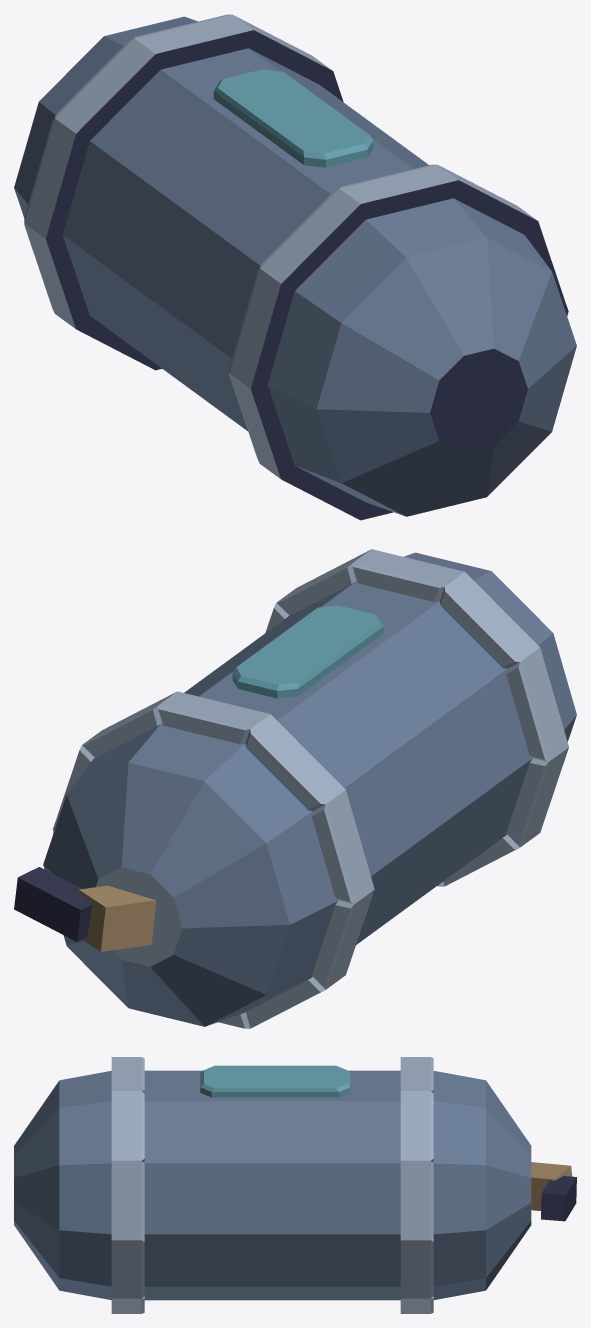
File: spent_fuel_tank.glb
3 views of the same model, one above another, from view 1: azimuth 30°, elevation 25°; view 2: azimuth 150°, elevation 25°; view 3: azimuth 270°, elevation 25° (orthographic). The views are drawn at different scales.
Visible parts, largest first — view 1: spent_fuel_tank; view 2: spent_fuel_tank; view 3: spent_fuel_tank.
Boxes of the visible parts, x1=… form: spent_fuel_tank: x1=14, y1=14, x2=576, y2=520; spent_fuel_tank: x1=14, y1=549, x2=576, y2=1028; spent_fuel_tank: x1=14, y1=1057, x2=576, y2=1313.
Bounding box in the file's own units: 1.88 × 1.79 × 4.09.
